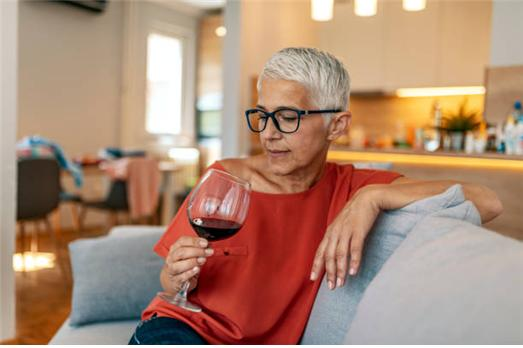alcohol: (163, 168, 253, 313)
